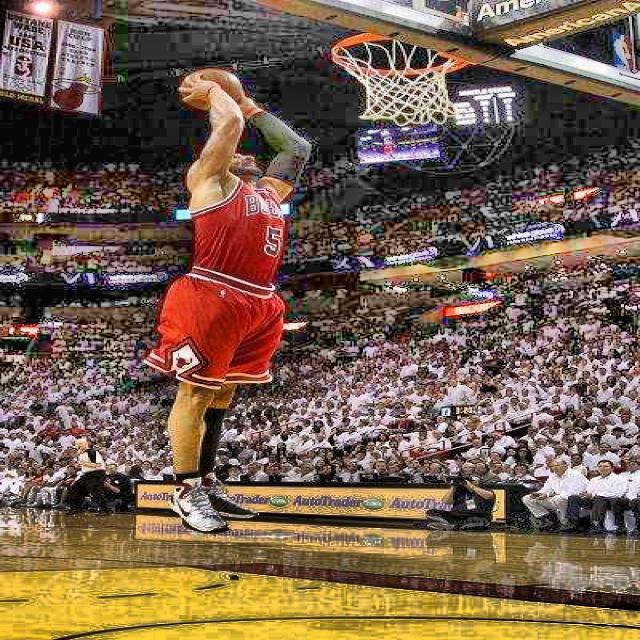rim: (330, 33, 470, 123)
